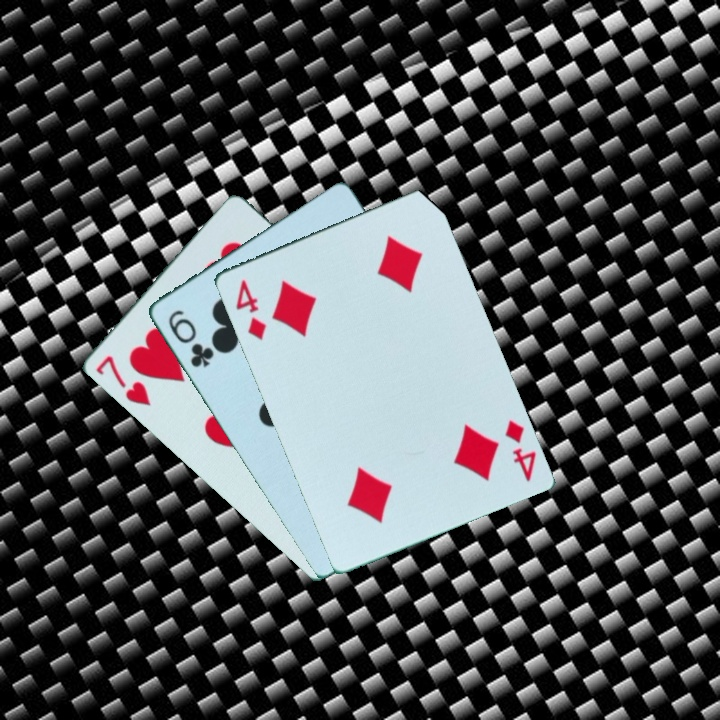4d: (500, 416, 539, 484), (231, 276, 269, 344)
6c: (163, 306, 216, 371)
7h: (91, 352, 154, 410)
